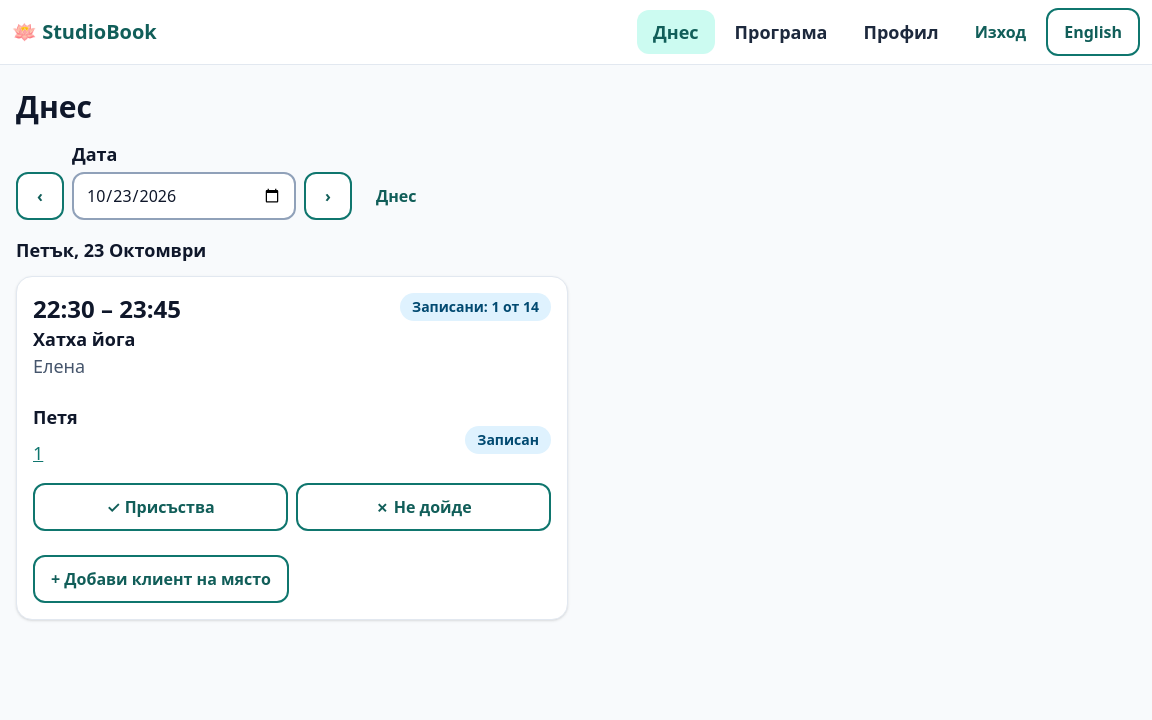
Scenario: instructor page › shows attendance window error
Click the button "✗ Не дойде". click: (424,507)
box: [296,483,551,531]
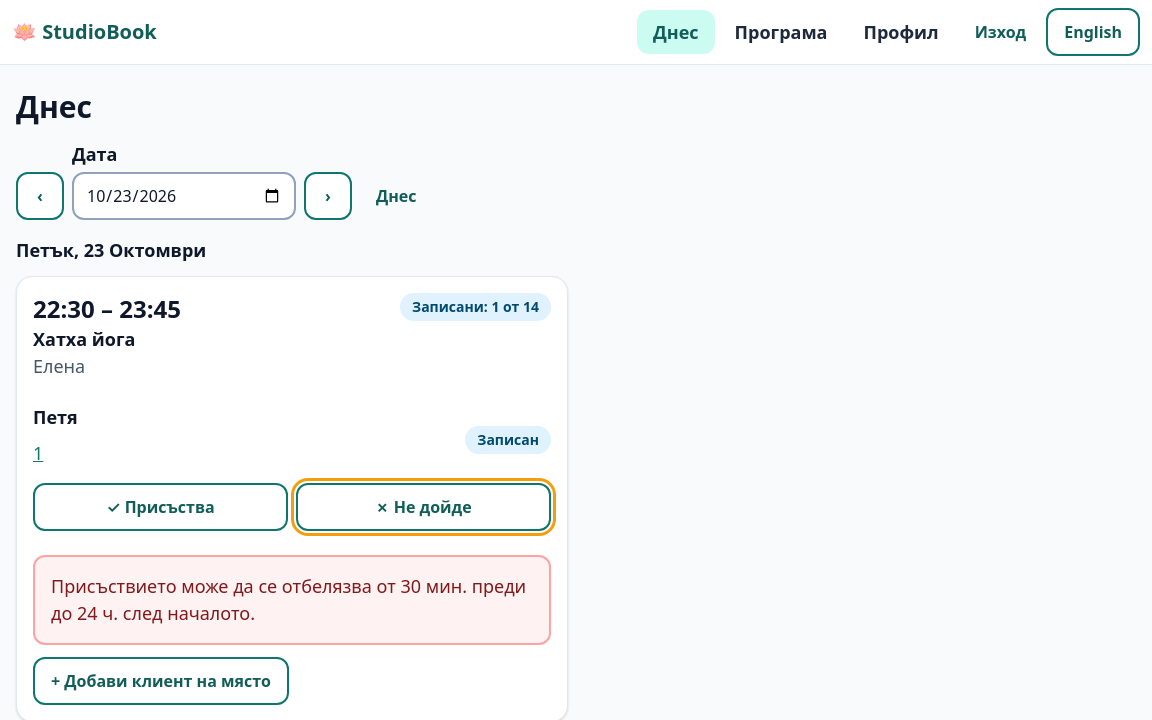
Now the message shows "Присъствието може да се отбелязва", box [51,574,526,625]
